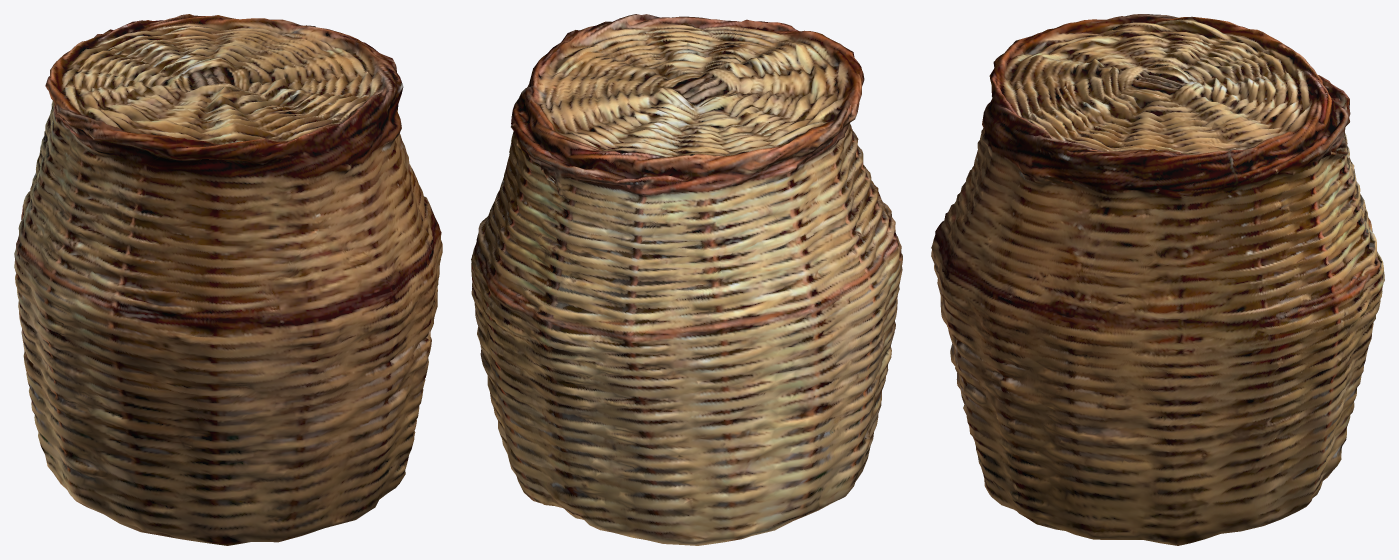
The model's file is wicker_basket.glb.
3 views of the same model, side by side, from view 1: azimuth 30°, elevation 25°; view 2: azimuth 150°, elevation 25°; view 3: azimuth 270°, elevation 25° (orthographic).
Parts seen in each view (by area): view 1: submesh_baked_mesh_baked_mesh_nor0_0; view 2: submesh_baked_mesh_baked_mesh_nor0_0; view 3: submesh_baked_mesh_baked_mesh_nor0_0.
Part boxes in pixels (left/top/right/bottom): submesh_baked_mesh_baked_mesh_nor0_0: left=14, top=14, right=442, bottom=545; submesh_baked_mesh_baked_mesh_nor0_0: left=471, top=14, right=902, bottom=545; submesh_baked_mesh_baked_mesh_nor0_0: left=931, top=14, right=1384, bottom=545.
Size of the model in its own units: 0.000296 by 0.000312 by 0.000318.
1 material, 1 textured.
